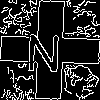N: (25, 25, 63, 72)
